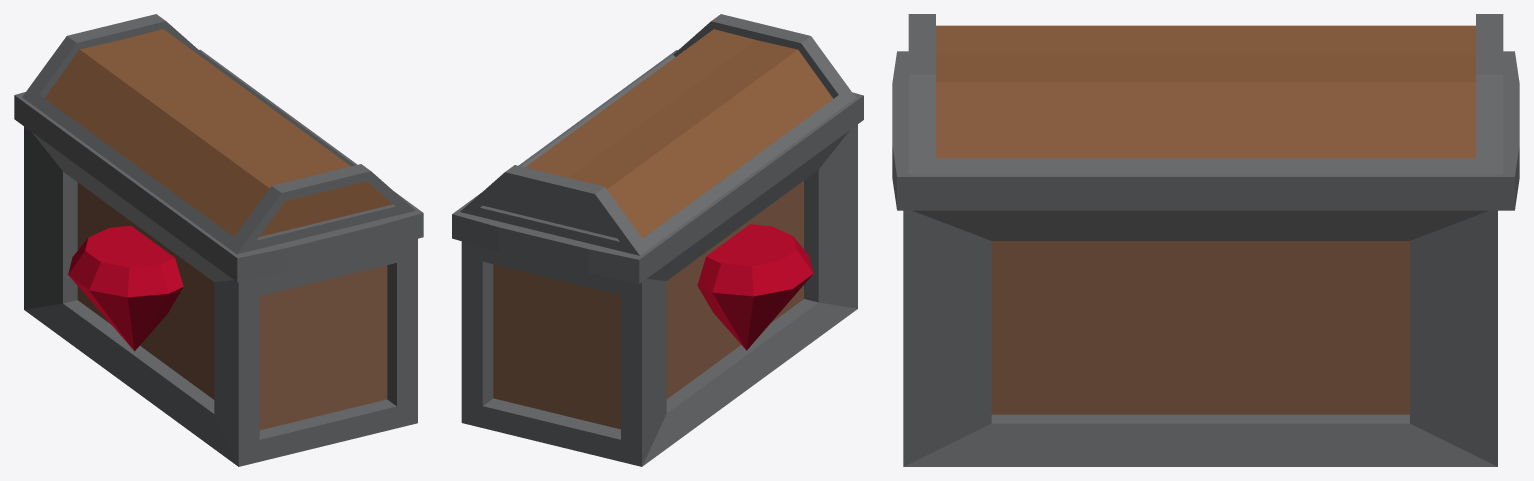
The model's file is chest updated.fbx.
3 views of the same model, side by side, from view 1: azimuth 30°, elevation 25°; view 2: azimuth 150°, elevation 25°; view 3: azimuth 270°, elevation 25° (orthographic). The views are drawn at different scales.
Parts seen in each view (by area): view 1: Cube, Cone; view 2: Cube, Cone; view 3: Cube.
Boxes of the visible parts, x1,y1,x2,y2 form: Cube: [14, 14, 423, 466]; Cone: [68, 226, 183, 351]; Cube: [452, 14, 863, 466]; Cone: [697, 224, 813, 350]; Cube: [892, 14, 1519, 466].
Bounding box in the file's own units: 263 × 279 × 438.
